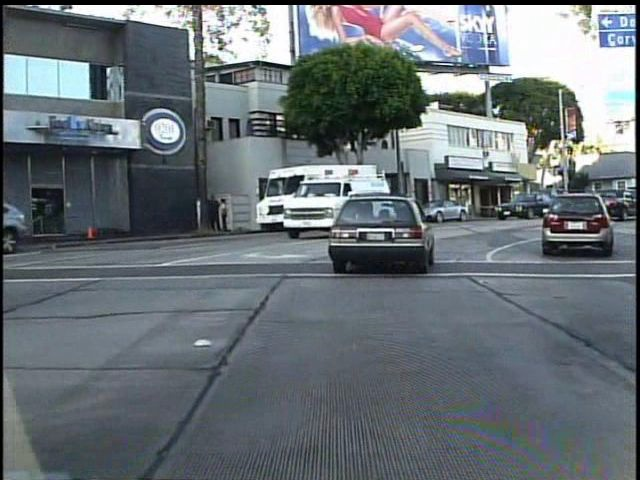person: (207, 192, 223, 233), (218, 196, 233, 233)
